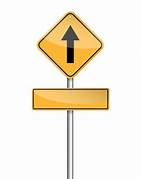forward: (37, 9, 104, 78)
